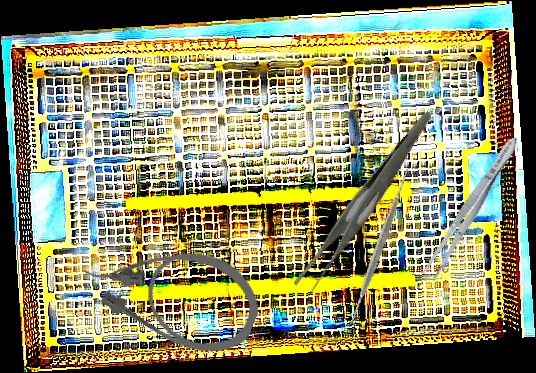Cannula: (72, 213, 272, 369)
Dressing Forceps: (258, 111, 475, 299), (418, 132, 525, 284)
Spatula Surgical: (298, 165, 460, 329)
